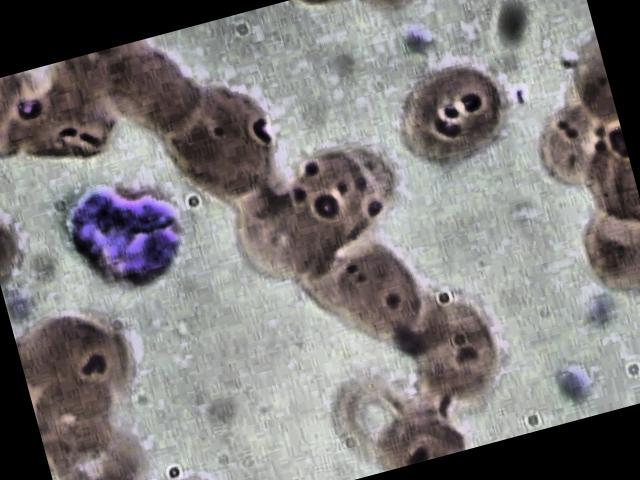Platelets: (397, 13, 445, 60), (577, 285, 625, 331), (552, 359, 600, 405), (2, 278, 48, 324)
RBC: (148, 66, 288, 219), (388, 50, 528, 176), (309, 227, 449, 353), (304, 346, 444, 472), (12, 296, 152, 422), (29, 357, 168, 480), (398, 286, 510, 410), (224, 172, 340, 286), (274, 142, 388, 256), (133, 456, 237, 480)
WBC: (50, 163, 198, 309)
